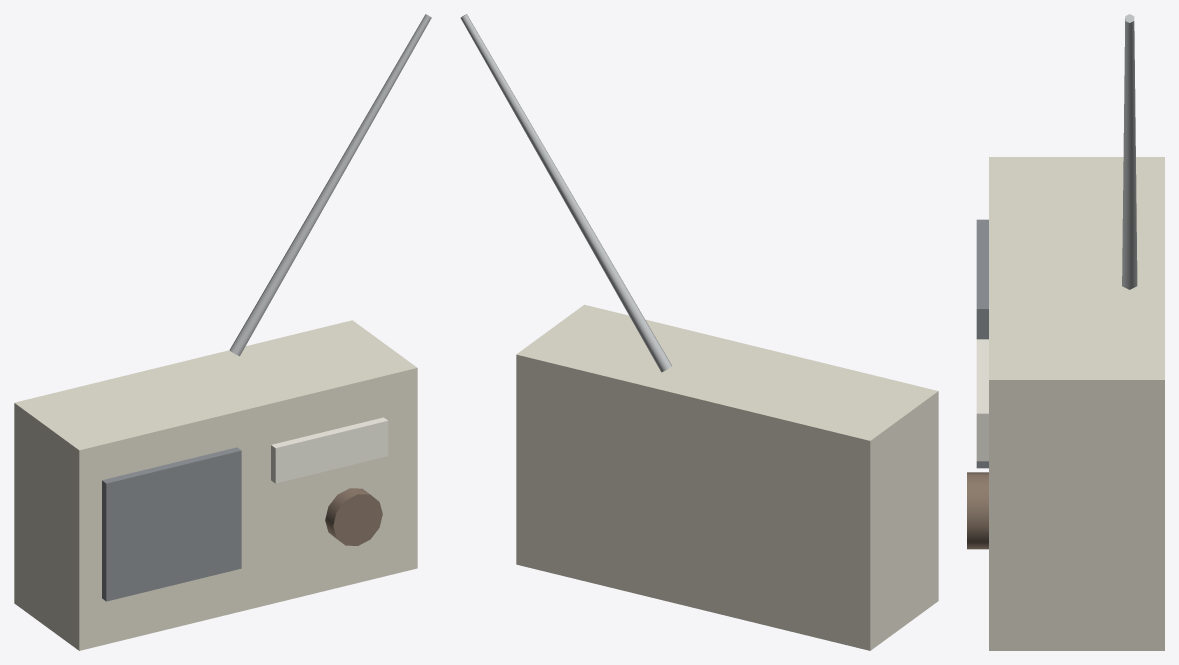
File: Radio.glb
3 renders of one model, left to right at view 1: azimuth 30°, elevation 25°; view 2: azimuth 150°, elevation 25°; view 3: azimuth 270°, elevation 25°, orthographic. The views are drawn at different scales.
Visible parts, largest first — view 1: Radio; view 2: Radio; view 3: Radio.
Part boxes in pixels (box(x1,y1,x2,y2)): Radio: box(14, 14, 431, 650); Radio: box(460, 14, 938, 650); Radio: box(967, 14, 1164, 650).
Bounding box in the file's own units: 0.3585 × 0.4246 × 0.1125.
